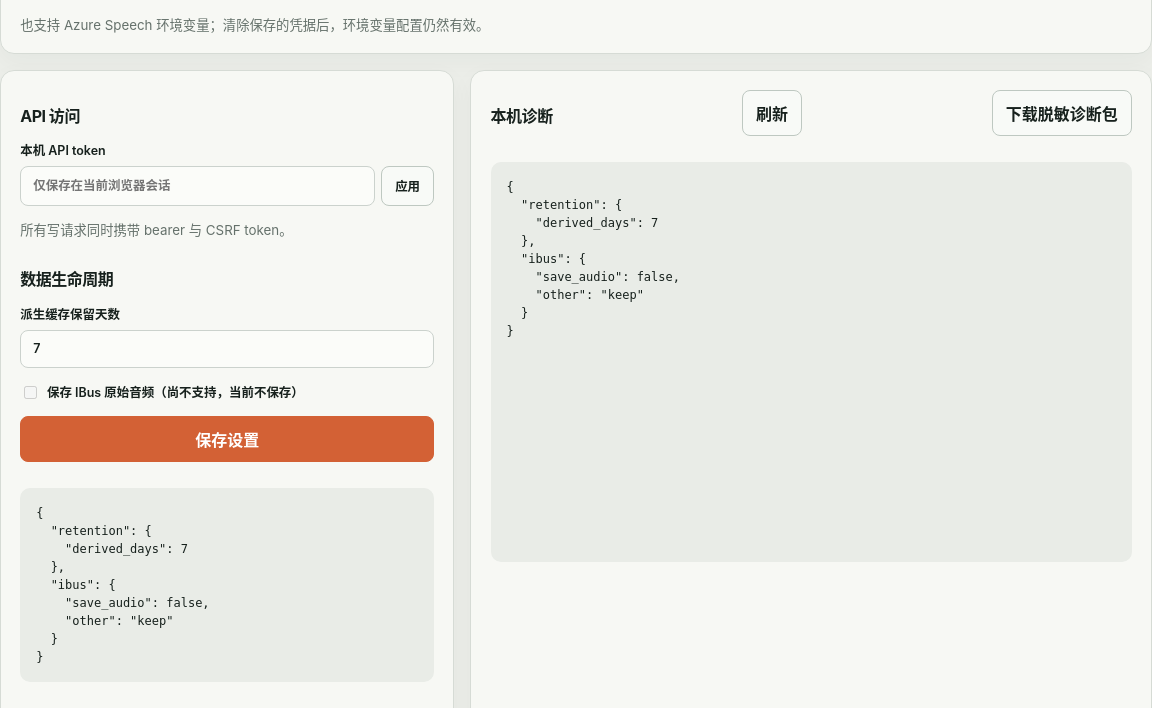
Test: loads saved controls and sends only changed groups
(page scrolled)
Expected: the checkbox is disabled, x1=24 y1=386 x2=37 y2=399
Expected: the checkbox is not checked, x1=24 y1=386 x2=37 y2=399
Replace the text in the number field with "14" at coordinates (227, 349), box x1=20 y1=330 x2=434 y2=368
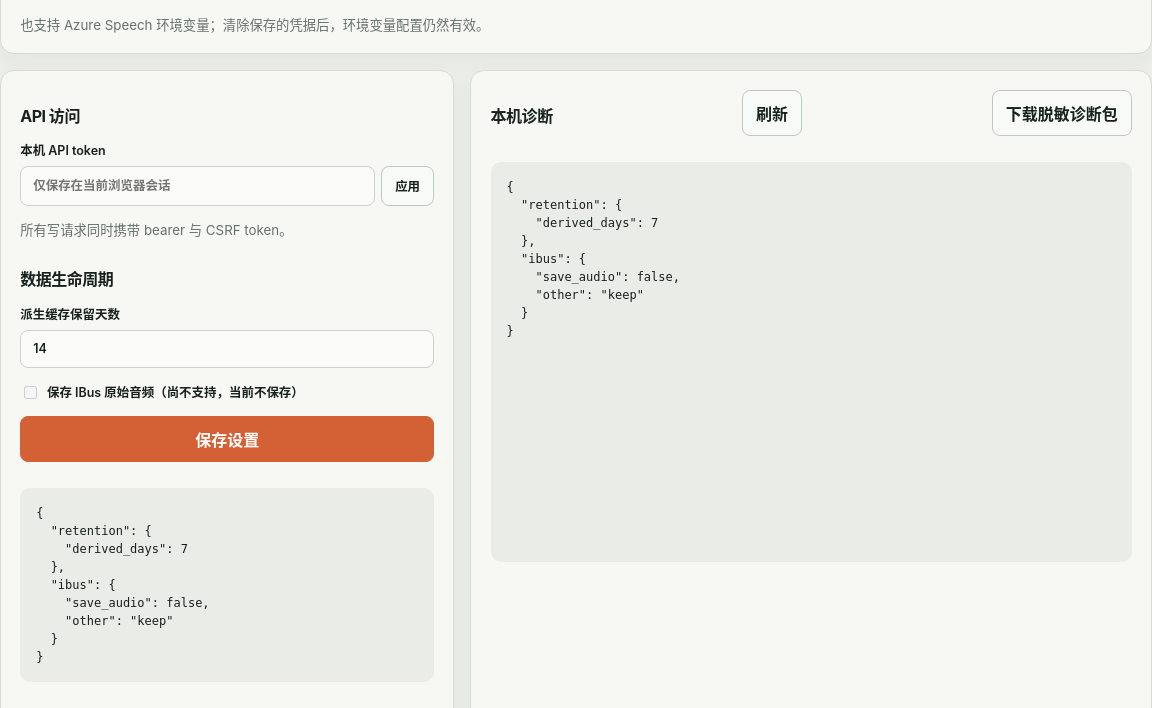
Click the button "保存设置".
click(227, 439)  # box x1=20 y1=416 x2=434 y2=462
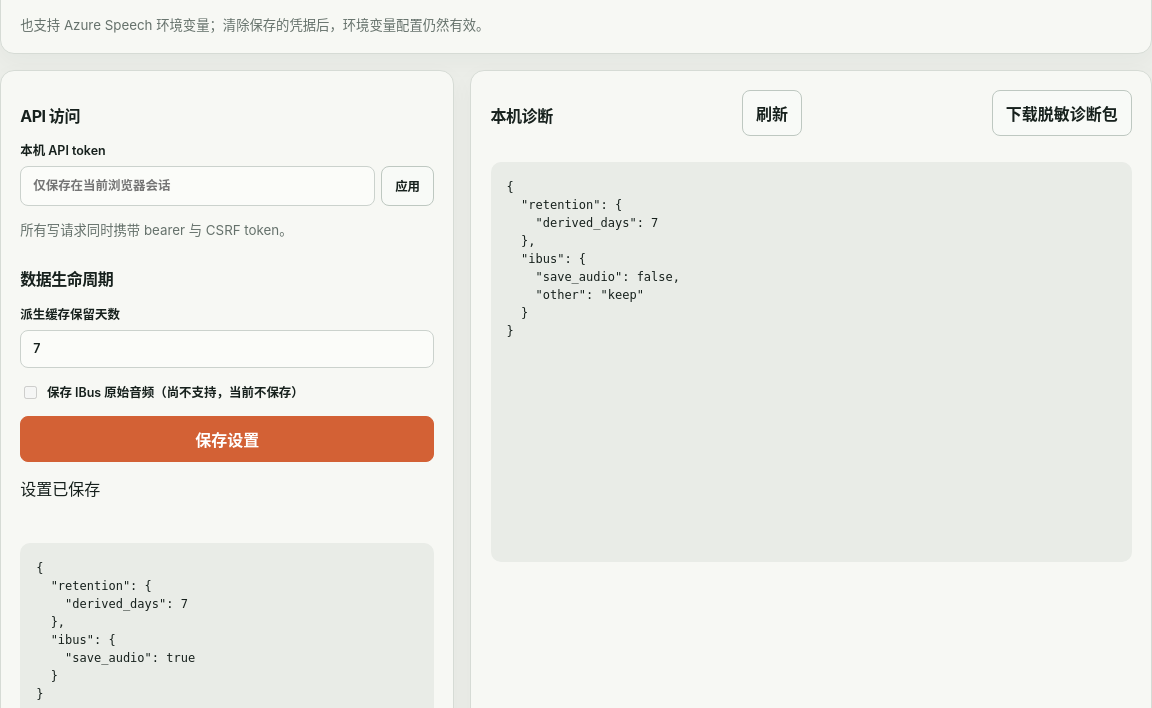
Result: the text "设置已保存" is shown at x1=20 y1=479 x2=100 y2=499
